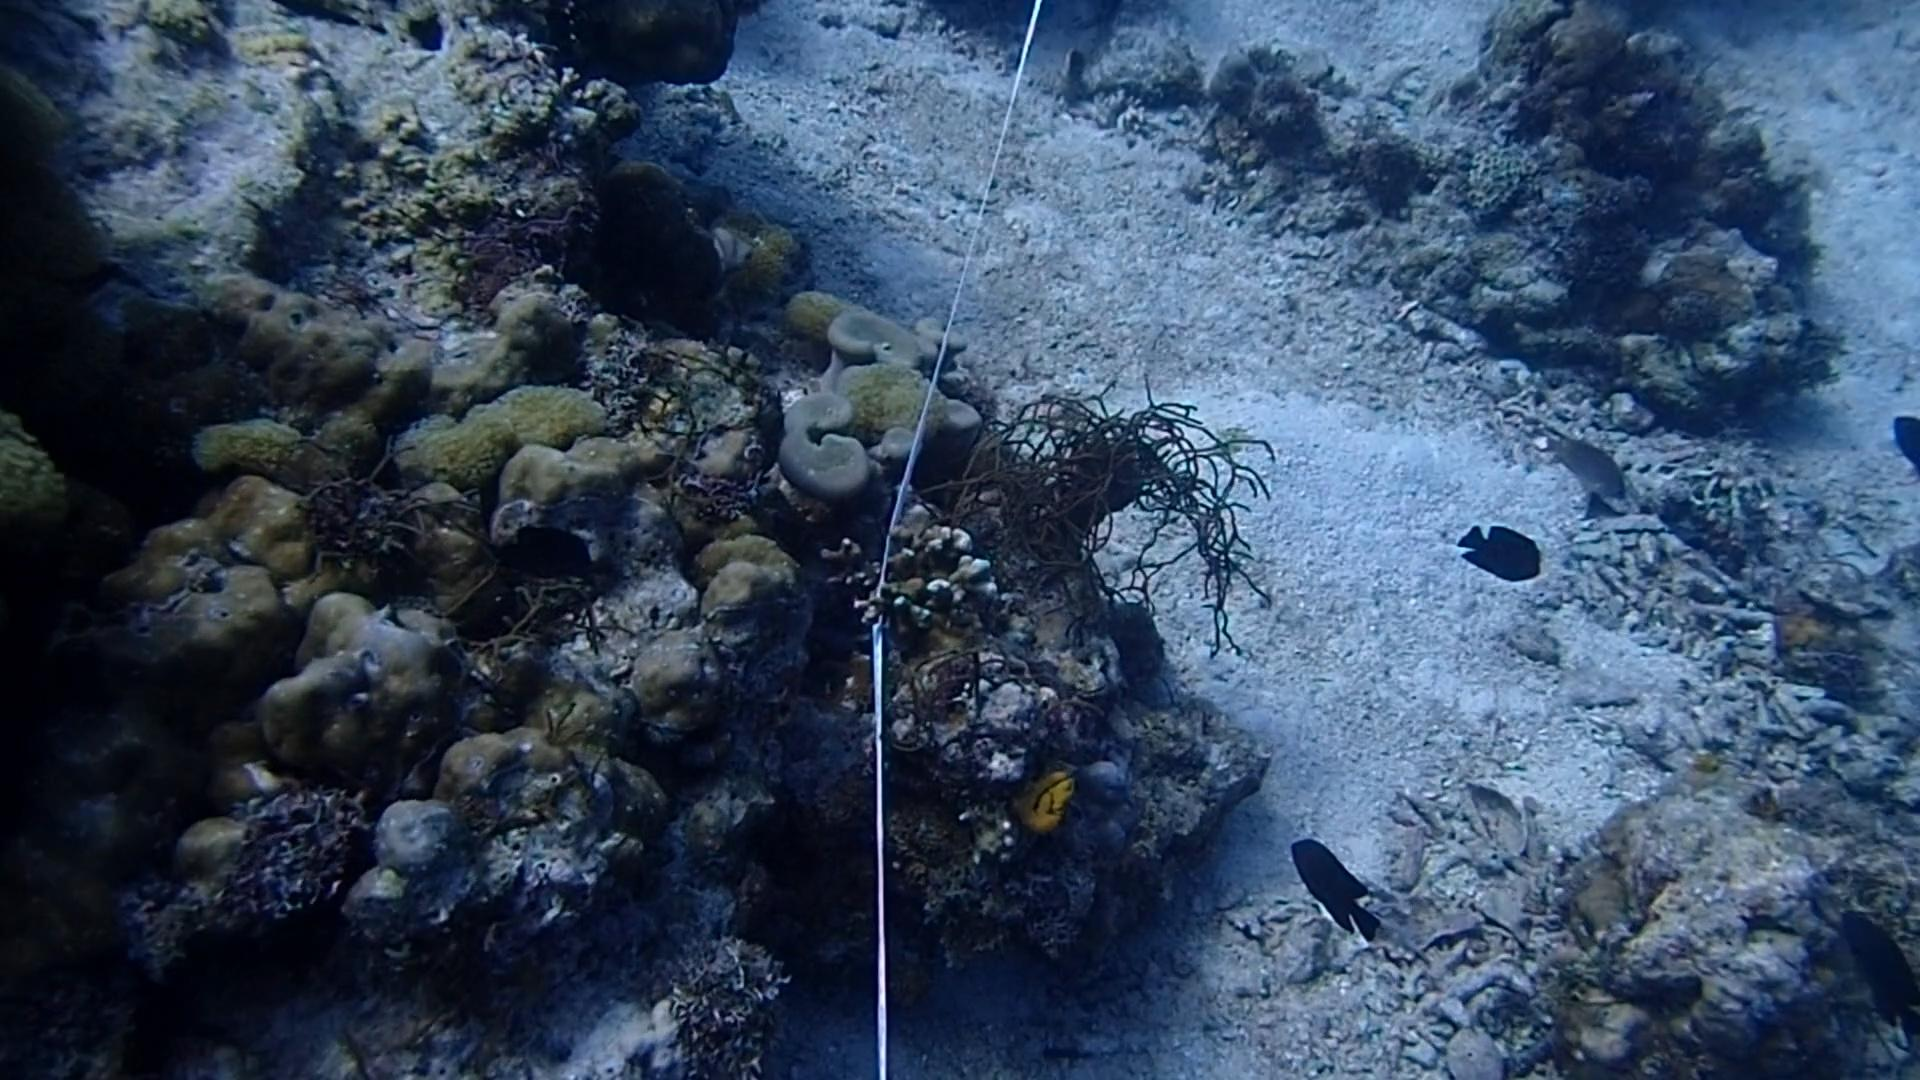Dark Fish: (1829, 903, 1920, 1034), (1279, 831, 1385, 942), (1445, 505, 1549, 597)
Light Fish: (1548, 433, 1631, 505)
